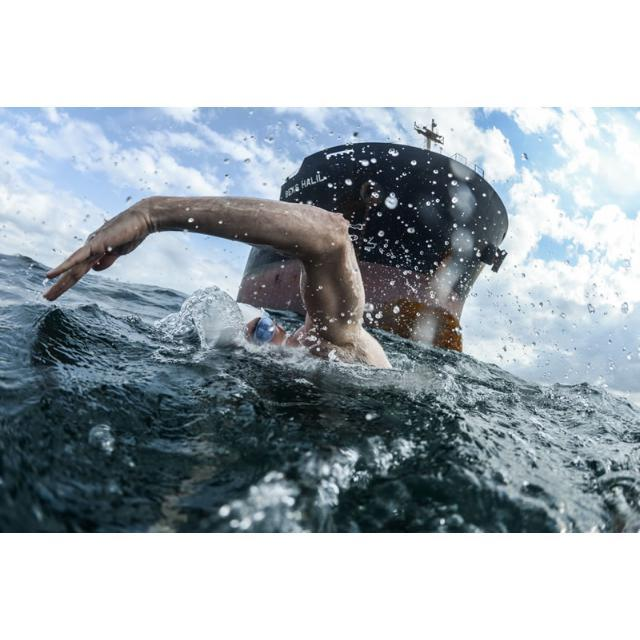human: (37, 193, 393, 372)
